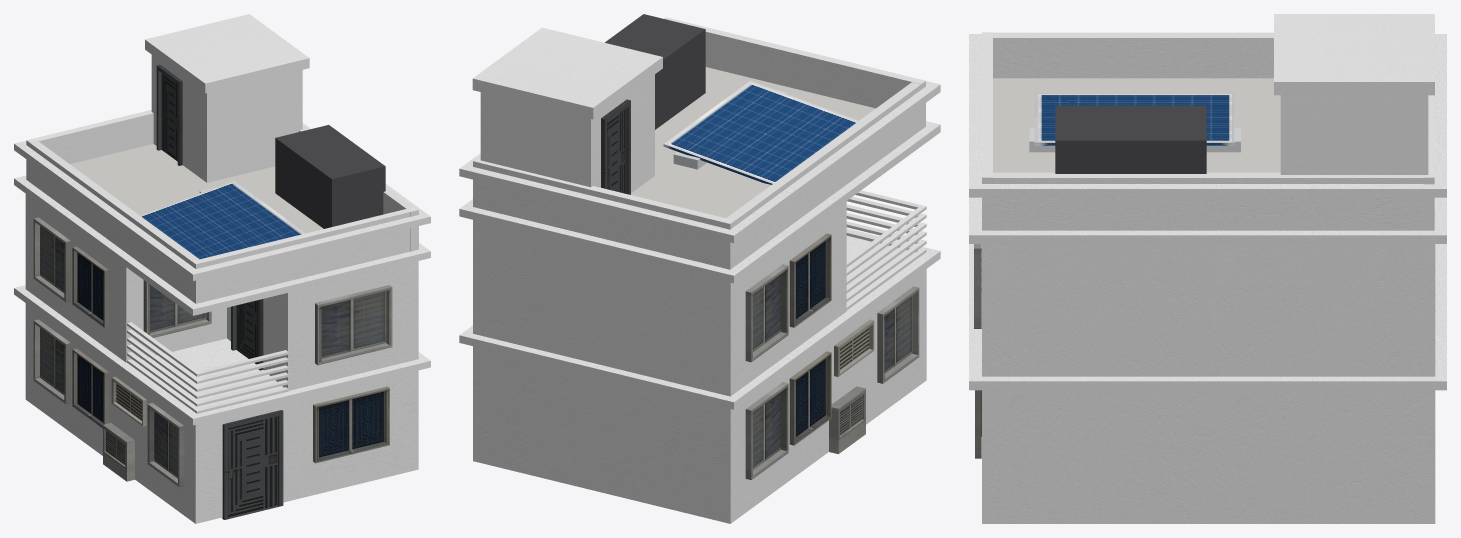
The model's file is house_sawan.glb.
3 renders of one model, left to right at view 1: azimuth 30°, elevation 25°; view 2: azimuth 150°, elevation 25°; view 3: azimuth 270°, elevation 25°, orthographic. The views are drawn at different scales.
Visible parts, largest first — view 1: model; view 2: model; view 3: model.
Part boxes in pixels (x1,y1,x2,y2): model: (14,14,430,523); model: (459,14,940,523); model: (969,14,1446,523).
Bounding box in the file's own units: 1.4 × 1.86 × 1.82.
Materials: 7 (4 with a texture image).
